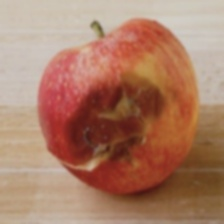apple: (3, 10, 204, 185)
